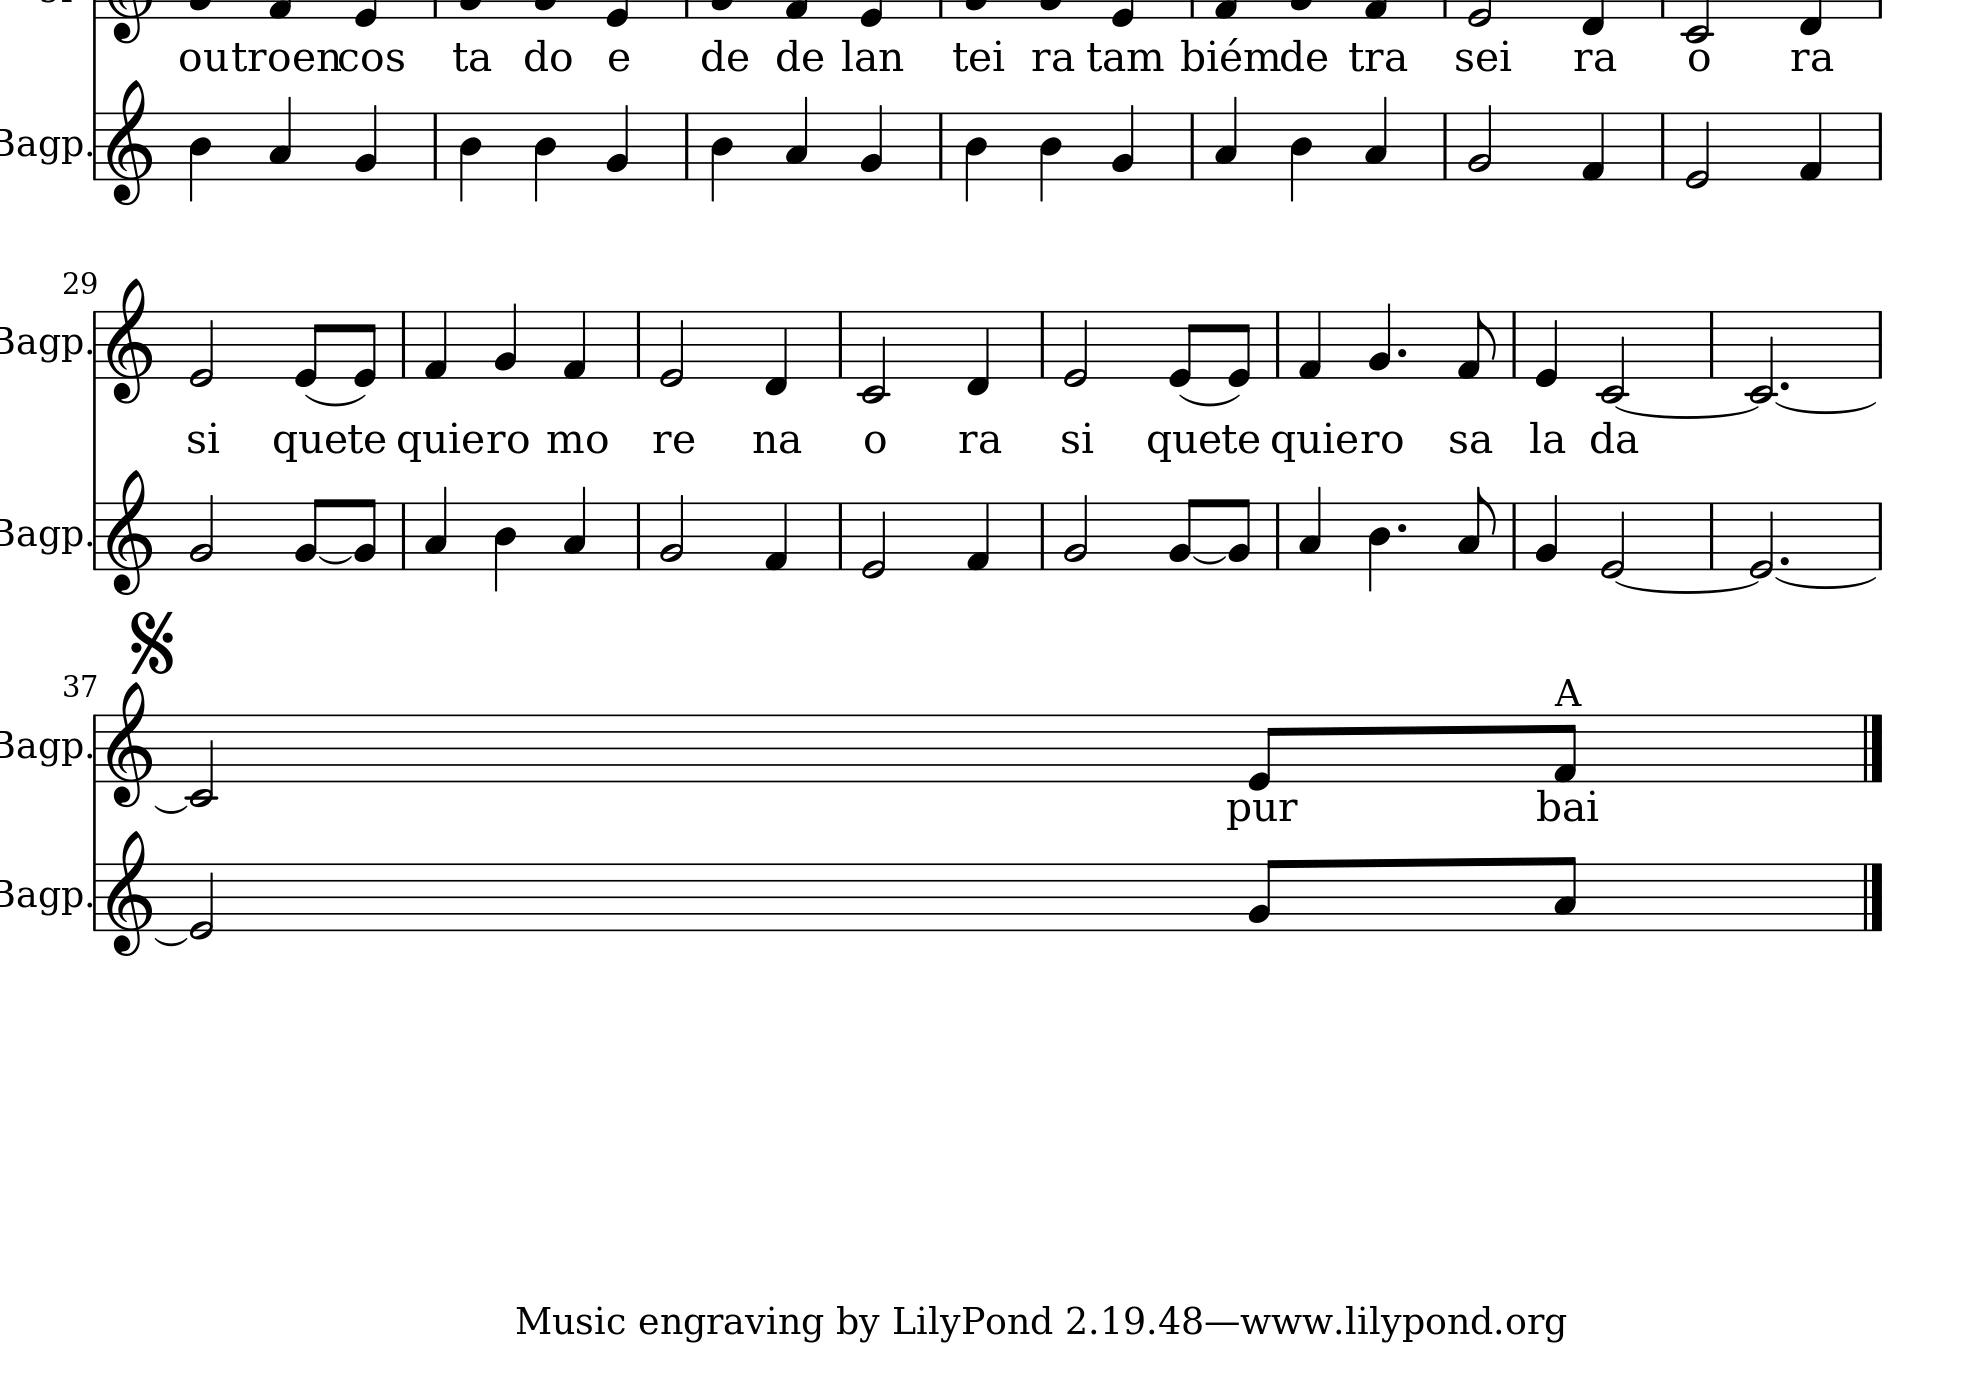2: (60, 269, 79, 295)
2_-2: (1597, 308, 1628, 404), (1746, 308, 1778, 404), (186, 714, 218, 807), (859, 308, 889, 405)
2_0: (1748, 497, 1776, 581), (187, 308, 216, 390), (187, 860, 216, 942), (658, 308, 686, 389), (1600, 499, 1628, 579), (860, 499, 887, 581), (1684, 109, 1711, 189), (1061, 308, 1089, 389)
2_2: (658, 491, 686, 570), (1061, 493, 1090, 570), (187, 491, 215, 570), (1467, 103, 1494, 180)
3: (60, 671, 79, 700)
4_-1: (763, 308, 789, 398), (965, 308, 990, 396)
4_0: (1533, 308, 1560, 389)
4_1: (762, 500, 791, 571), (1580, 110, 1607, 181), (1798, 110, 1825, 181), (422, 308, 449, 379), (561, 308, 588, 379), (1296, 308, 1323, 379), (965, 500, 992, 571)
4_2: (354, 101, 379, 181), (605, 101, 630, 181), (1367, 299, 1392, 379), (1535, 491, 1560, 571), (859, 103, 884, 181), (493, 301, 519, 379), (1111, 103, 1135, 181)
4_3: (268, 95, 293, 180), (785, 95, 810, 180), (1297, 485, 1323, 570), (1364, 95, 1388, 181), (1214, 95, 1238, 180), (423, 485, 448, 570), (562, 485, 587, 570)
4_4: (493, 500, 519, 591), (187, 110, 212, 203), (458, 110, 482, 203), (1367, 500, 1391, 593), (534, 110, 558, 201), (711, 110, 735, 201), (965, 110, 989, 201), (1039, 110, 1063, 201), (1290, 110, 1314, 200)
7: (80, 671, 98, 698)
8_0: (1247, 711, 1281, 792), (293, 308, 327, 389), (1169, 308, 1200, 390), (352, 308, 378, 390), (1228, 308, 1253, 390)
8_1: (1454, 308, 1498, 379), (1553, 714, 1578, 783)
8_2: (1247, 857, 1281, 933), (293, 496, 327, 570), (1167, 496, 1200, 570), (352, 496, 376, 571), (1228, 496, 1250, 571)
8_3: (1456, 484, 1497, 571), (1553, 853, 1578, 933)
9: (80, 269, 97, 295)
Final_barline: (1858, 714, 1885, 782), (1858, 862, 1885, 928)
Gclef: (104, 277, 154, 405), (104, 829, 154, 957), (104, 469, 154, 596), (104, 680, 154, 807), (104, 79, 153, 209)
Segno: (127, 606, 175, 674)
Single_barline: (395, 500, 413, 568), (396, 310, 413, 378), (1270, 310, 1287, 378), (1872, 112, 1888, 178), (1506, 310, 1522, 376), (1034, 502, 1051, 568), (1270, 502, 1287, 568), (1872, 502, 1888, 568), (679, 113, 695, 178), (1872, 311, 1888, 376), (88, 862, 103, 931), (833, 500, 848, 568), (933, 112, 948, 178), (1655, 112, 1671, 178), (630, 311, 646, 378), (1506, 502, 1521, 568), (428, 113, 443, 178), (1185, 113, 1200, 178), (1438, 113, 1453, 178), (1704, 503, 1719, 568), (88, 500, 101, 571), (88, 112, 101, 180), (88, 310, 101, 378), (835, 311, 848, 379), (88, 714, 101, 782), (632, 502, 646, 568), (1704, 311, 1717, 376)
Slur: (1615, 581, 1760, 596), (1612, 405, 1755, 419), (1773, 575, 1876, 590), (1773, 401, 1876, 414), (1178, 392, 1240, 407), (305, 392, 366, 407), (153, 801, 189, 813), (151, 936, 190, 946), (317, 553, 354, 564), (1191, 553, 1228, 564)
dot: (1778, 378, 1792, 393), (1778, 552, 1792, 567), (1395, 520, 1408, 535), (1395, 345, 1408, 358)
